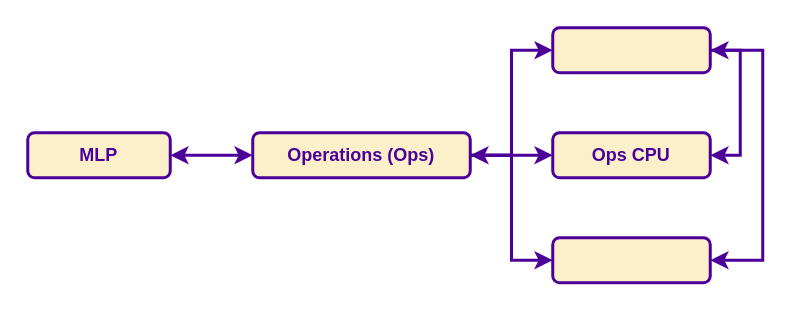
The diagram is 803 pixels wide and 309 high, and some of its shapes have lost their labels. Each missing label, with the box of its shape:
Ops GPU: (550, 236, 711, 284)
Ops Hybrid: (550, 26, 711, 74)
